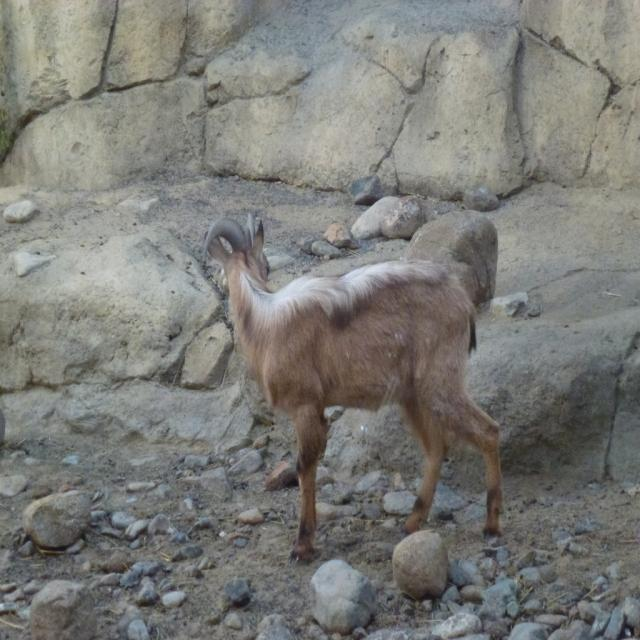Goat: (202, 192, 506, 593)
